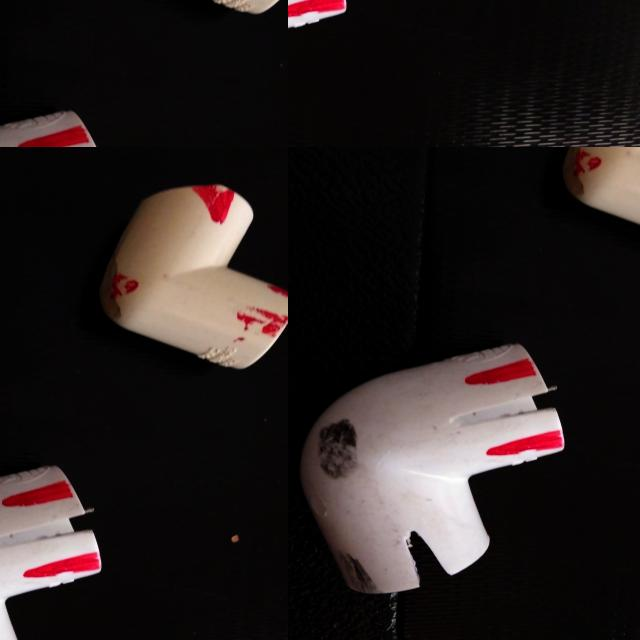Defective: (482, 424, 577, 466), (400, 536, 464, 587), (451, 361, 555, 386)
L Joint: (298, 343, 566, 598), (560, 147, 640, 244)
